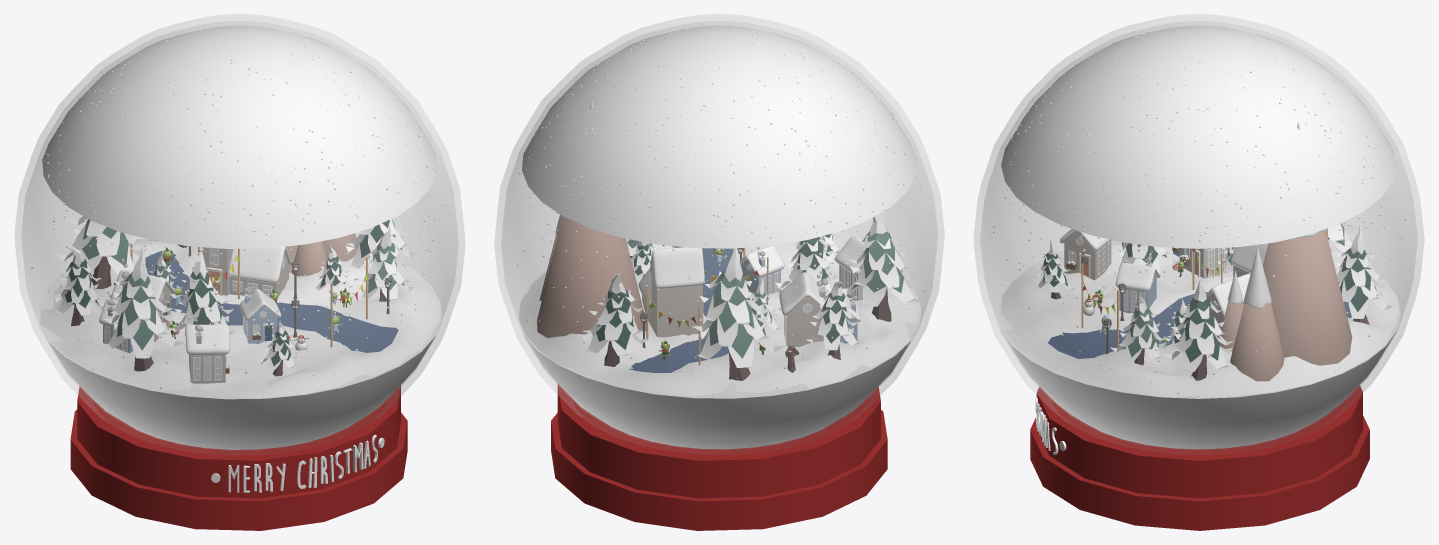
The model's file is snow globe sketchfab.fbx.
3 renders of one model, left to right at view 1: azimuth 30°, elevation 25°; view 2: azimuth 150°, elevation 25°; view 3: azimuth 270°, elevation 25°, orthographic.
Parts seen in each view (by area): view 1: snow globe particles, Cylinder, snow globe1, snowdrift, snow base, snow globe2, ice river, Cylinder.055, church, Cylinder.015, house2, merry christmas (+11 smaller); view 2: snow globe particles, Cylinder, snow globe1, snow base, snowdrift, snow globe2, mountain, Cylinder.015, church, Cylinder.055, Cylinder.009, house2.003 (+7 smaller); view 3: snow globe particles, Cylinder, snow globe1, snowdrift, snow base, snow globe2, mountain, Cylinder.016, mountain.001, Cylinder.009, ice river, house2 (+10 smaller).
Boxes of the visible parts, bbox=[...] form: snow globe particles: bbox=[42, 25, 437, 248]; Cylinder: bbox=[70, 385, 407, 530]; snow globe1: bbox=[14, 14, 465, 428]; snowdrift: bbox=[40, 239, 439, 397]; snow base: bbox=[37, 238, 442, 449]; snow globe2: bbox=[21, 21, 458, 422]; ice river: bbox=[145, 250, 398, 352]; Cylinder.055: bbox=[103, 246, 183, 371]; church: bbox=[201, 246, 291, 298]; Cylinder.015: bbox=[56, 216, 147, 289]; house2: bbox=[184, 316, 229, 383]; merry christmas: bbox=[211, 435, 384, 492]; snow globe particles: bbox=[522, 25, 916, 248]; Cylinder: bbox=[551, 384, 887, 530]; snow globe1: bbox=[494, 14, 944, 427]; snow base: bbox=[517, 244, 921, 449]; snowdrift: bbox=[518, 241, 919, 396]; snow globe2: bbox=[501, 21, 937, 422]; mountain: bbox=[537, 216, 646, 337]; Cylinder.015: bbox=[692, 248, 785, 380]; church: bbox=[638, 247, 704, 337]; Cylinder.055: bbox=[842, 214, 918, 321]; Cylinder.009: bbox=[582, 270, 648, 366]; house2.003: bbox=[779, 271, 829, 347]; snow globe particles: bbox=[1001, 25, 1396, 248]; Cylinder: bbox=[1030, 385, 1369, 530]; snow globe1: bbox=[973, 14, 1424, 425]; snowdrift: bbox=[1000, 240, 1398, 397]; snow base: bbox=[996, 247, 1401, 449]; snow globe2: bbox=[980, 21, 1417, 422]; mountain: bbox=[1263, 230, 1352, 365]; Cylinder.016: bbox=[1163, 279, 1233, 380]; mountain.001: bbox=[1230, 304, 1284, 381]; Cylinder.009: bbox=[1336, 225, 1393, 324]; ice river: bbox=[1048, 292, 1351, 358]; house2: bbox=[1060, 229, 1111, 280].
Size of the model in its own units: 4856 by 5037 by 4856.
